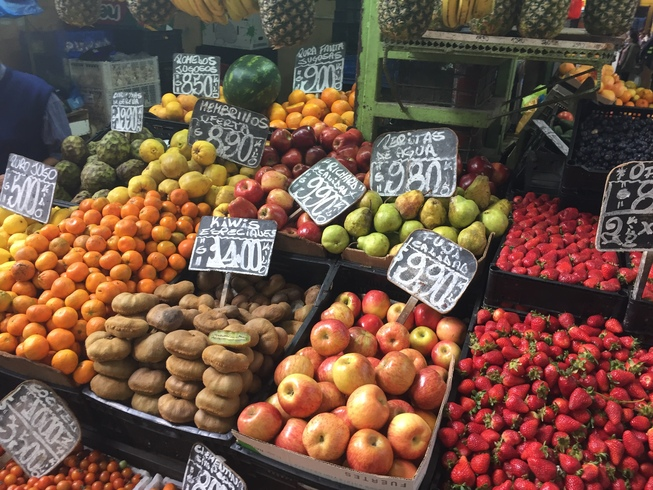precio: (383, 222, 492, 322), (1, 371, 92, 479), (367, 124, 470, 214), (286, 151, 372, 241), (184, 95, 274, 176), (182, 214, 285, 279), (596, 149, 653, 257), (1, 144, 70, 227), (181, 433, 253, 490), (291, 42, 354, 102), (169, 47, 229, 102), (106, 85, 156, 138)
